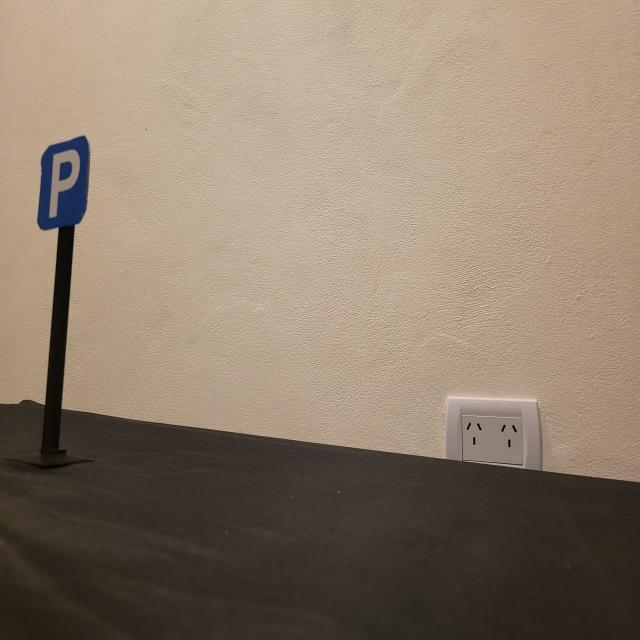parking: (37, 135, 90, 230)
